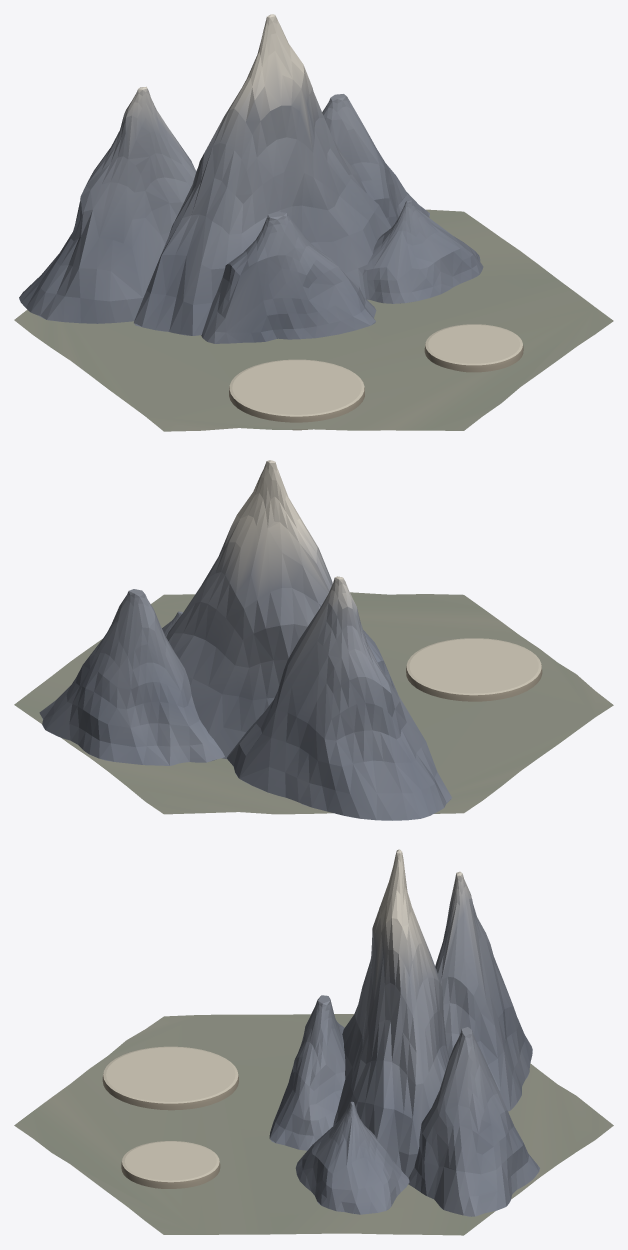
The model's file is terrain_mountains.glb.
3 renders of one model, top to bottom at view 1: azimuth 30°, elevation 25°; view 2: azimuth 150°, elevation 25°; view 3: azimuth 270°, elevation 25°, orthographic.
Visible parts, largest first — view 1: mountains_massif, mountains_ground, pad_token_mountains, pad_robber_mountains; view 2: mountains_massif, mountains_ground, pad_token_mountains; view 3: mountains_massif, mountains_ground, pad_token_mountains, pad_robber_mountains.
Part boxes in pixels (<box>): mountains_massif: <box>19,14,483,343</box>; mountains_ground: <box>14,209,613,431</box>; pad_token_mountains: <box>229,359,364,430</box>; pad_robber_mountains: <box>424,324,523,372</box>; mountains_massif: <box>39,460,451,820</box>; mountains_ground: <box>14,592,613,814</box>; pad_token_mountains: <box>406,638,542,701</box>; mountains_massif: <box>269,849,539,1216</box>; mountains_ground: <box>14,1014,613,1235</box>; pad_token_mountains: <box>102,1046,238,1110</box>; pad_robber_mountains: <box>121,1141,220,1188</box>.
Bounding box in the file's own units: 1.52 × 0.9125 × 1.76.
